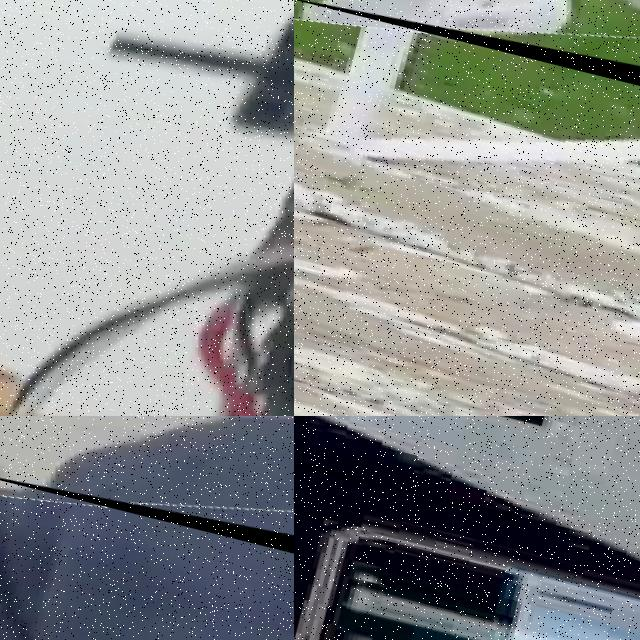drone: (0, 0, 294, 416), (0, 416, 294, 614), (294, 0, 640, 144)
